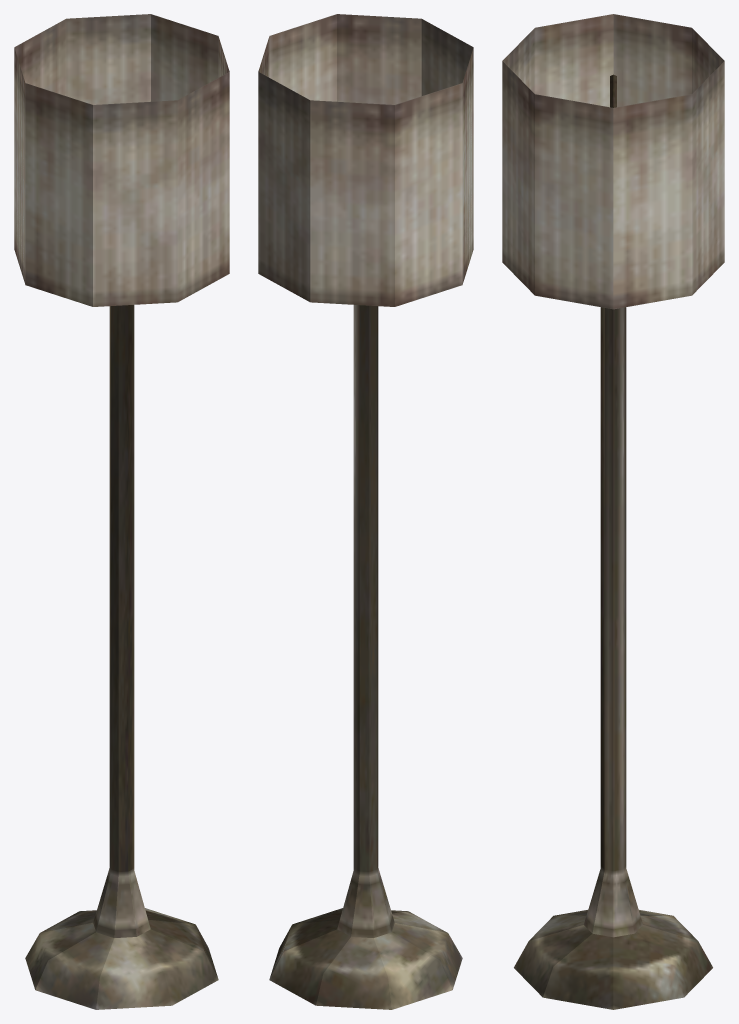
The model's file is floorshade01.fbx.
3 renders of one model, left to right at view 1: azimuth 30°, elevation 25°; view 2: azimuth 150°, elevation 25°; view 3: azimuth 270°, elevation 25°, orthographic.
Visible parts, largest first — view 1: mesh_3, mesh_0, mesh_4; view 2: mesh_3, mesh_0, mesh_4; view 3: mesh_3, mesh_0, mesh_4.
Boxes of the visible parts, bbox=[...] form: mesh_3: bbox=[14, 14, 229, 306]; mesh_0: bbox=[25, 305, 218, 1009]; mesh_4: bbox=[14, 17, 228, 306]; mesh_3: bbox=[258, 14, 473, 306]; mesh_0: bbox=[269, 305, 462, 1009]; mesh_4: bbox=[259, 16, 473, 306]; mesh_3: bbox=[502, 14, 724, 309]; mesh_0: bbox=[514, 307, 712, 1009]; mesh_4: bbox=[503, 20, 724, 307].
Size of the model in its own units: 40 by 180 by 40.
1 material, 1 textured.
